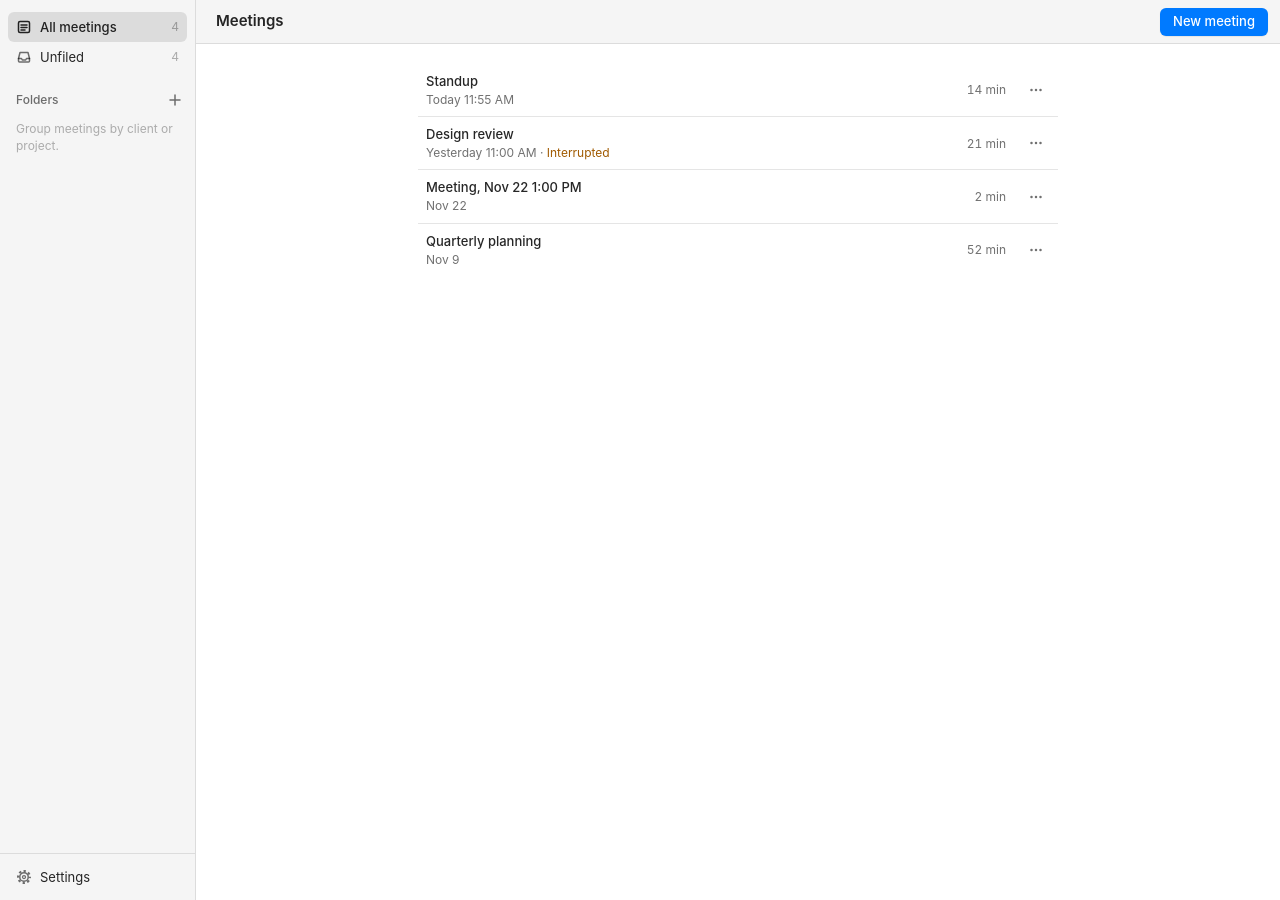
Test case: navigation › Open Mneme in the menu bar during a recording goes to the live meeting
This screenshot has width=1280, height=900.
Click the button "Settings": (98, 877) [8, 862, 187, 892]
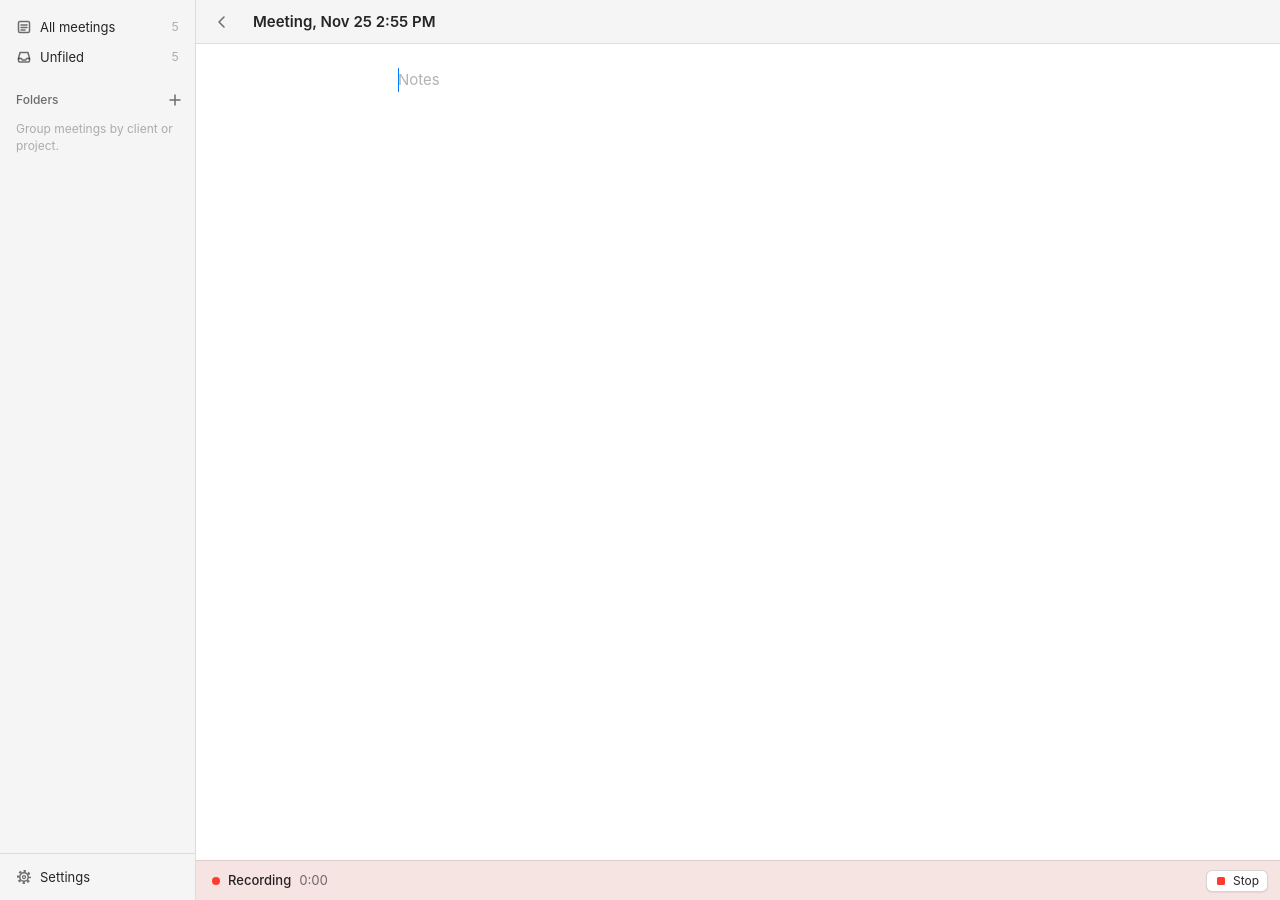
Asked again while it is on screen: nothing piles up behind it.
Click the button named "Back": (222, 22) [208, 8, 236, 36]
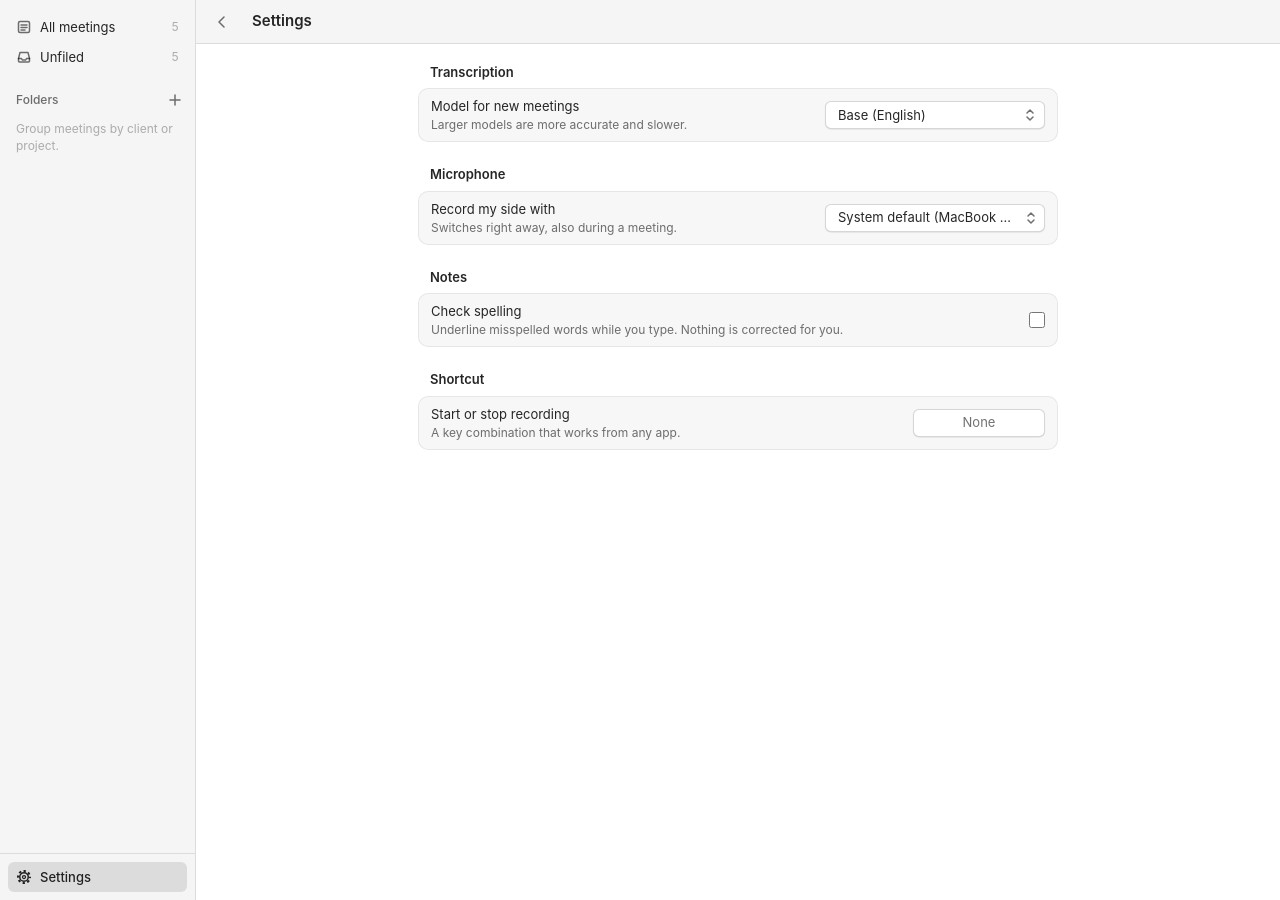
Result: the heading "Settings" is shown at [252, 12, 312, 31]
